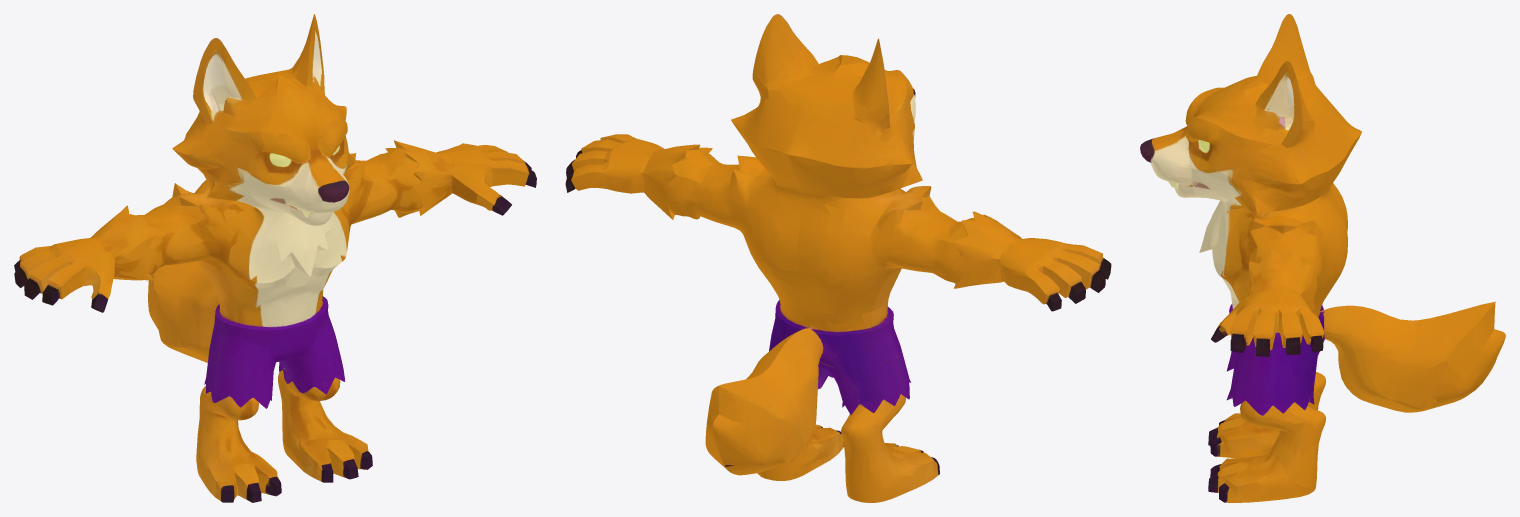
The model's file is werewolf-mesh.glb.
3 views of the same model, side by side, from view 1: azimuth 30°, elevation 25°; view 2: azimuth 150°, elevation 25°; view 3: azimuth 270°, elevation 25° (orthographic). The views are drawn at different scales.
Visible parts, largest first — view 1: Mesh_0; view 2: Mesh_0; view 3: Mesh_0.
Part boxes in pixels (x1=…): Mesh_0: x1=14, y1=14, x2=536, y2=502; Mesh_0: x1=565, y1=14, x2=1111, y2=502; Mesh_0: x1=1140, y1=14, x2=1505, y2=502.
Bounding box in the file's own units: 62177 × 51551 × 39777.
1 material, 1 textured.
